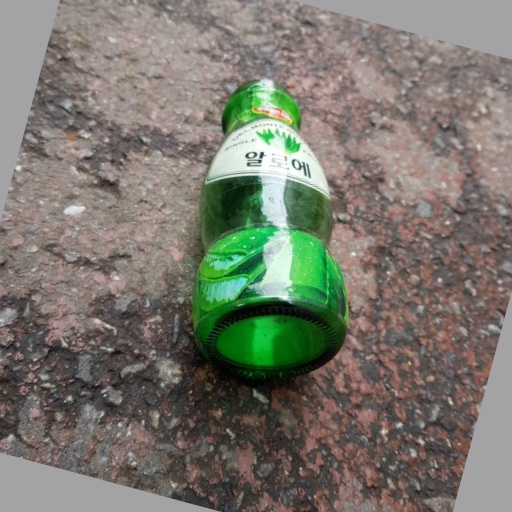Glass_4: (185, 73, 350, 376)
